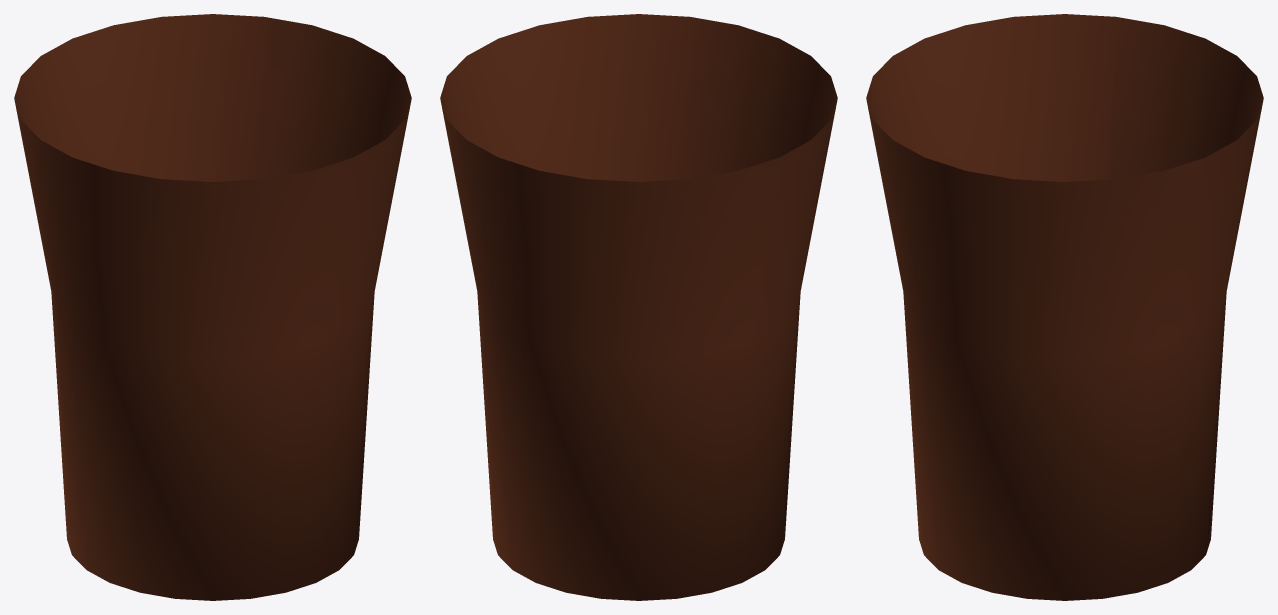
Rendered from DiceCup.obj.
The picture shows the model from 3 angles, left to right: view 1: azimuth 30°, elevation 25°; view 2: azimuth 150°, elevation 25°; view 3: azimuth 270°, elevation 25°; orthographic projection.
Parts seen in each view (by area): view 1: Mesh1 Model; view 2: Mesh1 Model; view 3: Mesh1 Model.
Boxes of the visible parts, <box> form: Mesh1 Model: <box>14,14,411,600</box>; Mesh1 Model: <box>440,14,837,600</box>; Mesh1 Model: <box>866,14,1263,600</box>.
Bounding box in the file's own units: 0.8593 × 1.05 × 0.8593.
